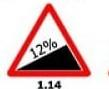road_sign: (4, 2, 93, 78)
